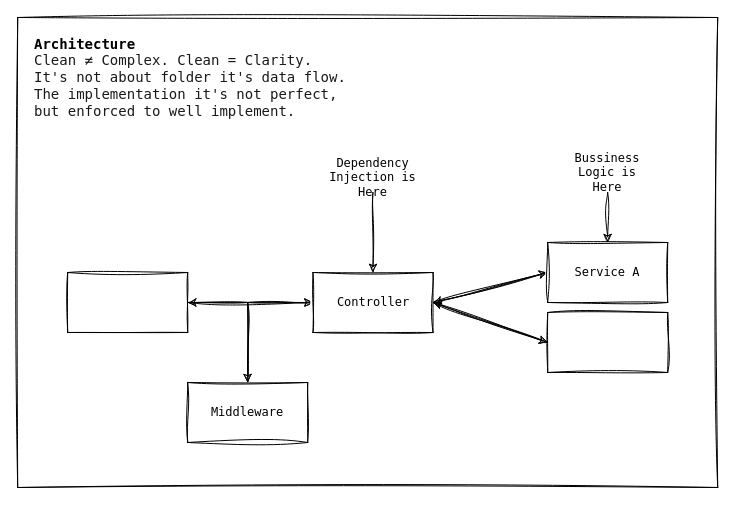
This 735x505 diagram has some shape labels left out. The centre of each missing label's shape, as x and y in pixels:
"Route" goes at point (127, 302).
"Service B" goes at point (607, 342).
